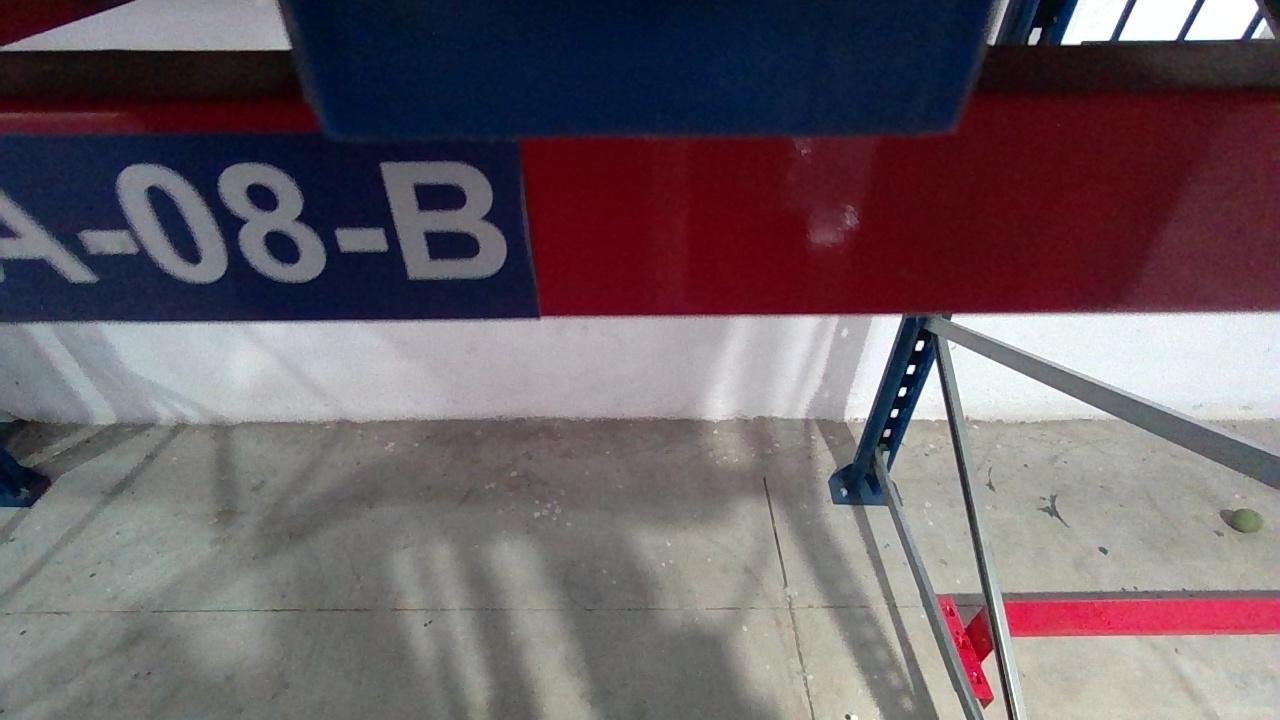h_rack: (1, 101, 1278, 315)
